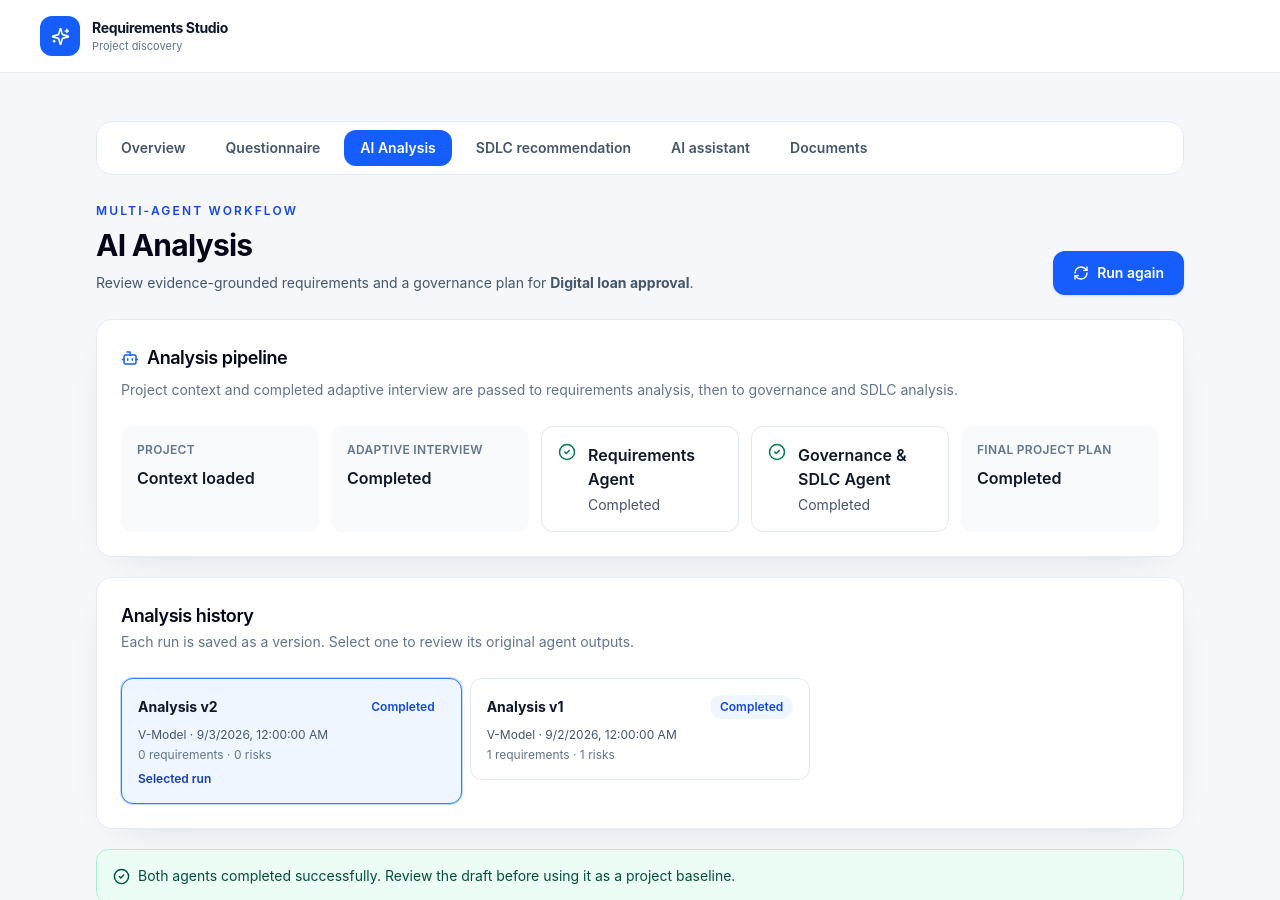
Test: multi-agent analysis page › shows saved versions and loads a selected historical agent result
Expected: the heading "Analysis history" is shown, [121,605,254,626]
Click the button "Analysis v1" at [640, 729], box [470,678,810,780]
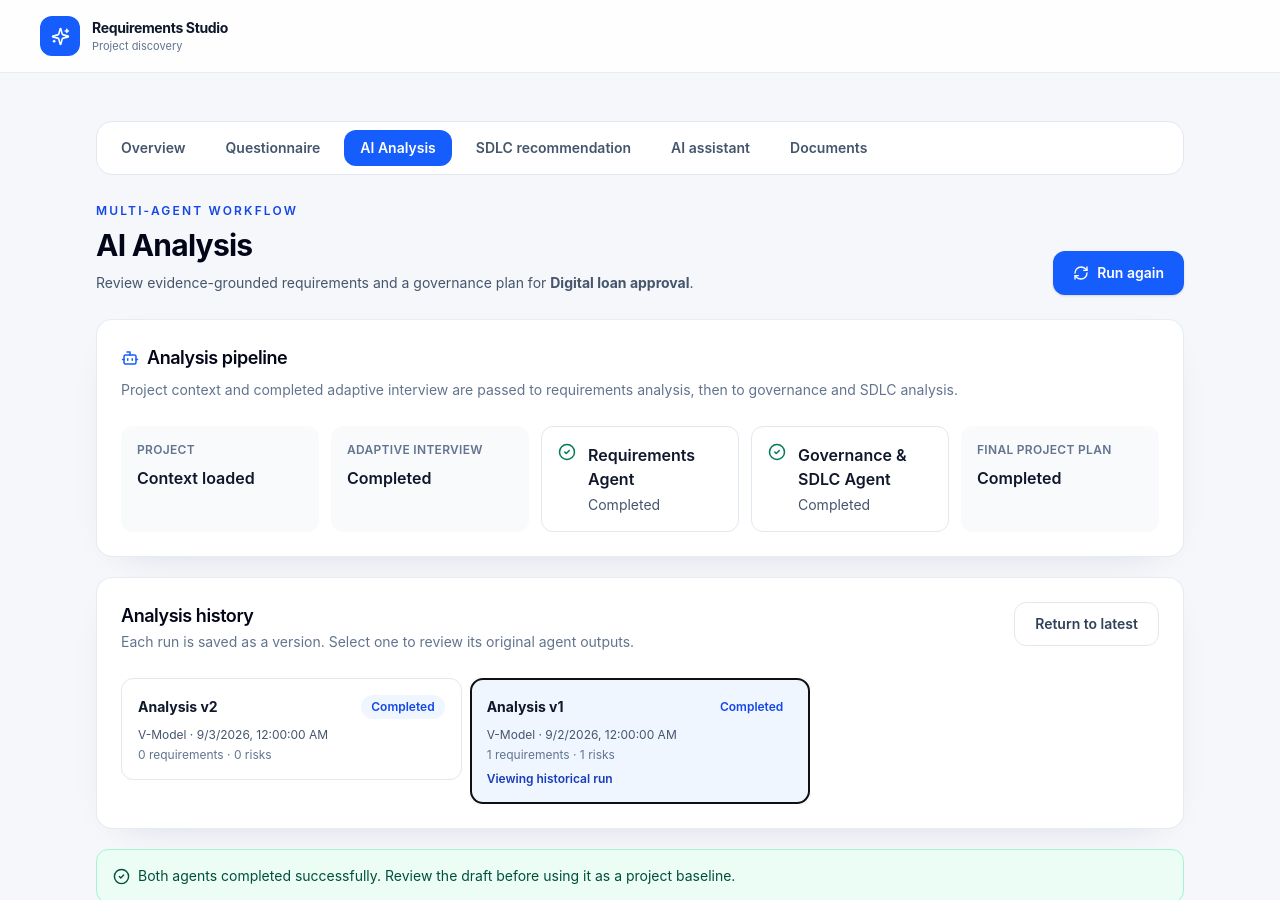
Result: the button "Return to latest" is shown at [1014,602,1159,646]
